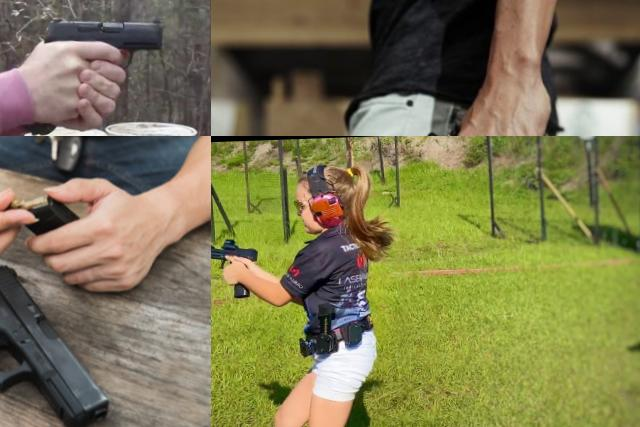handgun: (0, 259, 116, 427), (27, 10, 168, 89), (211, 236, 261, 305)
